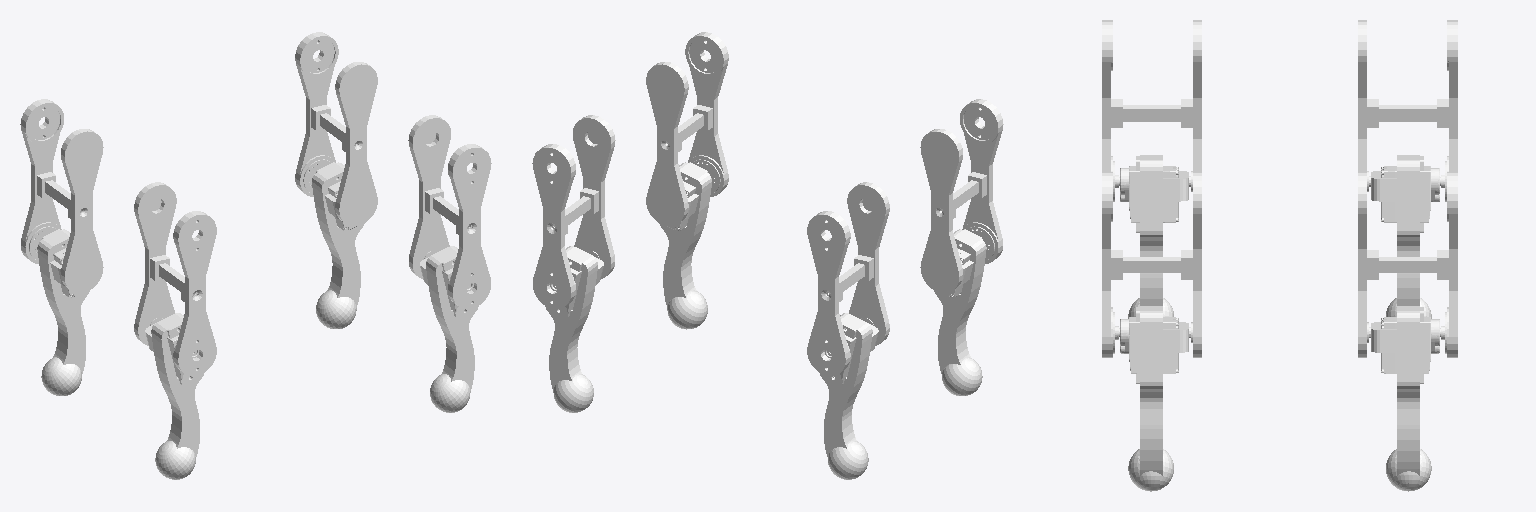
The robot description file, URDF, robot "xdog":
<?xml version="1.0"?>
<robot name="xdog" >



  <link
    name="body_Link">
    <inertial>
      <origin
        xyz="0.0100797468384241 -6.6942978937945E-15 0.014671259999792"
        rpy="0 0 0" />
      <mass
        value="0.144204255125477" />
      <inertia
        ixx="1.68530851280875E-06"
        ixy="6.4893603395572E-18"
        ixz="-3.26289108002854E-06"
        iyy="0.000221482596538362"
        iyz="1.94206212542256E-18"
        izz="0.000219797288025553" />
    </inertial>
    <visual>
      <origin
        xyz="0 0 0"
        rpy="0 0 0" />
      <geometry>
        <mesh
          filename="package://xdog_description/meshes/body_Link.STL" />
      </geometry>
      <material
        name="">
        <color
          rgba="1 1 1 0.32" />
      </material>
    </visual>
    <collision>
      <origin
        xyz="0 0 0"
        rpy="0 0 0" />
      <geometry>
        <mesh
          filename="package://xdog_description/meshes/body_Link.STL" />
      </geometry>
    </collision>
  </link>
  <link
    name="Link_13">
    <inertial>
      <origin
        xyz="0.00589211277664776 -0.00486711947882862 -0.00589211281764702"
        rpy="0 0 0" />
      <mass
        value="0.0222474344540392" />
      <inertia
        ixx="1.05777822701644E-06"
        ixy="1.75424012982471E-07"
        ixz="-9.25745238901287E-08"
        iyy="8.38710703025696E-07"
        iyz="1.01496626639833E-07"
        izz="1.05777822724891E-06" />
    </inertial>
    <visual>
      <origin
        xyz="0 0 0"
        rpy="0 0 0" />
      <geometry>
        <mesh
          filename="package://xdog_description/meshes/Link_13.STL" />
      </geometry>
      <material
        name="">
        <color
          rgba="1 1 1 0.32" />
      </material>
    </visual>
    <collision>
      <origin
        xyz="0 0 0"
        rpy="0 0 0" />
      <geometry>
        <mesh
          filename="package://xdog_description/meshes/Link_13.STL" />
      </geometry>
    </collision>
  </link>
  <joint
    name="Joint_13"
    type="revolute">
    <origin
      xyz="0.083446 0.05 0"
      rpy="1.5708 -8.6736E-18 1.5708" />
    <parent
      link="body_Link" />
    <child
      link="Link_13" />
    <axis
      xyz="0 0 -1" />
    <limit
      lower="-6.28"
      upper="6.28"
      effort="1"
      velocity="3.14" />
    <safety_controller
      soft_upper="1.57"
      soft_lower="-1.57"
      k_velocity="0" />
  </joint>
  <link
    name="Link_12">
    <inertial>
      <origin
        xyz="0.032500000000006 -3.69149155687865E-15 0.00597908298070466"
        rpy="0 0 0" />
      <mass
        value="0.0122823538406087" />
      <inertia
        ixx="4.27588858132138E-06"
        ixy="2.91991621249905E-32"
        ixz="-3.31929666068204E-19"
        iyy="4.27588858132138E-06"
        iyz="3.49721018702583E-19"
        izz="5.84880205093844E-32" />
    </inertial>
    <visual>
      <origin
        xyz="0 0 0"
        rpy="0 0 0" />
      <geometry>
        <mesh
          filename="package://xdog_description/meshes/Link_12.STL" />
      </geometry>
      <material
        name="">
        <color
          rgba="1 1 1 0.32" />
      </material>
    </visual>
    <collision>
      <origin
        xyz="0 0 0"
        rpy="0 0 0" />
      <geometry>
        <mesh
          filename="package://xdog_description/meshes/Link_12.STL" />
      </geometry>
    </collision>
  </link>
  <joint
    name="Joint_12"
    type="revolute">
    <origin
      xyz="0 -0.012087 0"
      rpy="-1.5708 -5.5511E-17 -1.5708" />
    <parent
      link="Link_13" />
    <child
      link="Link_12" />
    <axis
      xyz="0 0 -1" />
    <limit
      lower="-6.28"
      upper="6.28"
      effort="1"
      velocity="3.14" />
    <safety_controller
      soft_upper="1.57"
      soft_lower="-1.57"
      k_velocity="0" />
  </joint>
  <link
    name="Link_11">
    <inertial>
      <origin
        xyz="0.0245886888409639 -0.00138827725185645 0.00591127232774293"
        rpy="0 0 0" />
      <mass
        value="0.0211642503887348" />
      <inertia
        ixx="3.69491793613372E-07"
        ixy="6.22688045554913E-08"
        ixz="5.3833881000221E-07"
        iyy="5.17389351902357E-06"
        iyz="-1.43507075395679E-08"
        izz="4.8135454149822E-06" />
    </inertial>
    <visual>
      <origin
        xyz="0 0 0"
        rpy="0 0 0" />
      <geometry>
        <mesh
          filename="package://xdog_description/meshes/Link_11.STL" />
      </geometry>
      <material
        name="">
        <color
          rgba="1 1 1 0.32" />
      </material>
    </visual>
    <collision>
      <origin
        xyz="0 0 0"
        rpy="0 0 0" />
      <geometry>
        <mesh
          filename="package://xdog_description/meshes/Link_11.STL" />
      </geometry>
    </collision>
  </link>
  <joint
    name="Joint_11"
    type="revolute">
    <origin
      xyz="0.065 0 0"
      rpy="-2.9633E-16 1.9559E-16 1.2326E-32" />
    <parent
      link="Link_12" />
    <child
      link="Link_11" />
    <axis
      xyz="0 0 -1" />
    <limit
      lower="-6.28"
      upper="6.28"
      effort="1"
      velocity="3.14" />
    <safety_controller
      soft_upper="1.57"
      soft_lower="-1.57"
      k_velocity="0" />
  </joint>
  <link
    name="Link_23">
    <inertial>
      <origin
        xyz="-0.00589211278446113 -0.00486712588930755 -0.00589211278452147"
        rpy="0 0 0" />
      <mass
        value="0.0222474343441444" />
      <inertia
        ixx="1.06158508682657E-06"
        ixy="-1.75490176065327E-07"
        ixz="9.25745239302252E-08"
        iyy="8.38710703268066E-07"
        iyz="1.01562555057677E-07"
        izz="1.06158508682599E-06" />
    </inertial>
    <visual>
      <origin
        xyz="0 0 0"
        rpy="0 0 0" />
      <geometry>
        <mesh
          filename="package://xdog_description/meshes/Link_23.STL" />
      </geometry>
      <material
        name="">
        <color
          rgba="1 1 1 0.32" />
      </material>
    </visual>
    <collision>
      <origin
        xyz="0 0 0"
        rpy="0 0 0" />
      <geometry>
        <mesh
          filename="package://xdog_description/meshes/Link_23.STL" />
      </geometry>
    </collision>
  </link>
  <joint
    name="Joint_23"
    type="revolute">
    <origin
      xyz="0.083446 -0.05 0"
      rpy="1.5708 5.9864E-13 1.5708" />
    <parent
      link="body_Link" />
    <child
      link="Link_23" />
    <axis
      xyz="0 0 -1" />
    <limit
      lower="-6.28"
      upper="6.28"
      effort="1"
      velocity="3.14" />
    <safety_controller
      soft_upper="1.57"
      soft_lower="-1.57"
      k_velocity="0" />
  </joint>
  <link
    name="Link_22">
    <inertial>
      <origin
        xyz="0.0325000000000334 -7.03603841856193E-15 -0.00597908298070209"
        rpy="0 0 0" />
      <mass
        value="0.0122823538406087" />
      <inertia
        ixx="4.27588858132137E-06"
        ixy="-2.97559937989751E-32"
        ixz="3.36258783018814E-19"
        iyy="4.27588858132137E-06"
        iyz="3.53149509808777E-19"
        izz="5.95900842341938E-32" />
    </inertial>
    <visual>
      <origin
        xyz="0 0 0"
        rpy="0 0 0" />
      <geometry>
        <mesh
          filename="package://xdog_description/meshes/Link_22.STL" />
      </geometry>
      <material
        name="">
        <color
          rgba="1 1 1 0.32" />
      </material>
    </visual>
    <collision>
      <origin
        xyz="0 0 0"
        rpy="0 0 0" />
      <geometry>
        <mesh
          filename="package://xdog_description/meshes/Link_22.STL" />
      </geometry>
    </collision>
  </link>
  <joint
    name="Joint_22"
    type="revolute">
    <origin
      xyz="0 -0.012087 0"
      rpy="-1.5708 -2.2205E-16 -1.5708" />
    <parent
      link="Link_23" />
    <child
      link="Link_22" />
    <axis
      xyz="0 0 -1" />
    <limit
      lower="-6.28"
      upper="6.28"
      effort="1"
      velocity="3.14" />
    <safety_controller
      soft_upper="1.57"
      soft_lower="-1.57"
      k_velocity="0" />
  </joint>
  <link
    name="Link_21">
    <inertial>
      <origin
        xyz="0.024583786441454 -0.00139405658271936 -0.00591062094058505"
        rpy="0 0 0" />
      <mass
        value="0.0211575776279215" />
      <inertia
        ixx="3.695056504152E-07"
        ixy="5.89881536992194E-08"
        ixz="-5.38512272494569E-07"
        iyy="5.17472254572912E-06"
        iyz="1.43045490492441E-08"
        izz="4.81430144751335E-06" />
    </inertial>
    <visual>
      <origin
        xyz="0 0 0"
        rpy="0 0 0" />
      <geometry>
        <mesh
          filename="package://xdog_description/meshes/Link_21.STL" />
      </geometry>
      <material
        name="">
        <color
          rgba="1 1 1 0.32" />
      </material>
    </visual>
    <collision>
      <origin
        xyz="0 0 0"
        rpy="0 0 0" />
      <geometry>
        <mesh
          filename="package://xdog_description/meshes/Link_21.STL" />
      </geometry>
    </collision>
  </link>
  <joint
    name="Joint_21"
    type="revolute">
    <origin
      xyz="0.065 0 0"
      rpy="-5.2549E-13 2.5997E-13 1.1102E-16" />
    <parent
      link="Link_22" />
    <child
      link="Link_21" />
    <axis
      xyz="0 0 -1" />
    <limit
      lower="-6.28"
      upper="6.28"
      effort="1"
      velocity="3.14" />
    <safety_controller
      soft_upper="1.57"
      soft_lower="-1.57"
      k_velocity="0" />
  </joint>
  <link
    name="Link_33">
    <inertial>
      <origin
        xyz="-0.00589210844151633 -0.00486712091968915 -0.00589211564371661"
        rpy="0 0 0" />
      <mass
        value="0.0222474249737408" />
      <inertia
        ixx="1.06158381911317E-06"
        ixy="-1.75489104820104E-07"
        ixz="9.25739533220327E-08"
        iyy="8.38709582675458E-07"
        iyz="1.01562035051974E-07"
        izz="1.0615830141383E-06" />
    </inertial>
    <visual>
      <origin
        xyz="0 0 0"
        rpy="0 0 0" />
      <geometry>
        <mesh
          filename="package://xdog_description/meshes/Link_33.STL" />
      </geometry>
      <material
        name="">
        <color
          rgba="1 1 1 0.32" />
      </material>
    </visual>
    <collision>
      <origin
        xyz="0 0 0"
        rpy="0 0 0" />
      <geometry>
        <mesh
          filename="package://xdog_description/meshes/Link_33.STL" />
      </geometry>
    </collision>
  </link>
  <joint
    name="Joint_33"
    type="revolute">
    <origin
      xyz="-0.071954 -0.05 0"
      rpy="1.5708 5.9865E-13 1.5708" />
    <parent
      link="body_Link" />
    <child
      link="Link_33" />
    <axis
      xyz="0 0 -1" />
    <limit
      lower="-6.28"
      upper="6.28"
      effort="1"
      velocity="3.14" />
    <safety_controller
      soft_upper="1.57"
      soft_lower="-1.57"
      k_velocity="0" />
  </joint>
  <link
    name="Link_32">
    <inertial>
      <origin
        xyz="0.032500000000006 -7.16093850883226E-15 -0.00597908298070464"
        rpy="0 0 0" />
      <mass
        value="0.0122823538406087" />
      <inertia
        ixx="4.27588858132138E-06"
        ixy="-3.00911507482815E-32"
        ixz="3.37411326343608E-19"
        iyy="4.27588858132138E-06"
        iyz="3.55281448875514E-19"
        izz="6.02693112478128E-32" />
    </inertial>
    <visual>
      <origin
        xyz="0 0 0"
        rpy="0 0 0" />
      <geometry>
        <mesh
          filename="package://xdog_description/meshes/Link_32.STL" />
      </geometry>
      <material
        name="">
        <color
          rgba="1 1 1 0.32" />
      </material>
    </visual>
    <collision>
      <origin
        xyz="0 0 0"
        rpy="0 0 0" />
      <geometry>
        <mesh
          filename="package://xdog_description/meshes/Link_32.STL" />
      </geometry>
    </collision>
  </link>
  <joint
    name="Joint_32"
    type="revolute">
    <origin
      xyz="0 -0.012087 0"
      rpy="-1.5708 -4.6384E-17 -1.5708" />
    <parent
      link="Link_33" />
    <child
      link="Link_32" />
    <axis
      xyz="0 0 -1" />
    <limit
      lower="-6.28"
      upper="6.28"
      effort="1"
      velocity="3.14" />
    <safety_controller
      soft_upper="1.57"
      soft_lower="-1.57"
      k_velocity="0" />
  </joint>
  <link
    name="Link_31">
    <inertial>
      <origin
        xyz="0.024583798575402 -0.00139405515632768 -0.0059106159242525"
        rpy="0 0 0" />
      <mass
        value="0.0211575679729923" />
      <inertia
        ixx="3.69504604037117E-07"
        ixy="5.89887459631567E-08"
        ixz="-5.38509568976572E-07"
        iyy="5.17471503754707E-06"
        iyz="1.43048206907229E-08"
        izz="4.81429502690449E-06" />
    </inertial>
    <visual>
      <origin
        xyz="0 0 0"
        rpy="0 0 0" />
      <geometry>
        <mesh
          filename="package://xdog_description/meshes/Link_31.STL" />
      </geometry>
      <material
        name="">
        <color
          rgba="1 1 1 0.32" />
      </material>
    </visual>
    <collision>
      <origin
        xyz="0 0 0"
        rpy="0 0 0" />
      <geometry>
        <mesh
          filename="package://xdog_description/meshes/Link_31.STL" />
      </geometry>
    </collision>
  </link>
  <joint
    name="Joint_31"
    type="revolute">
    <origin
      xyz="0.065 0 0"
      rpy="-5.2564E-13 2.6012E-13 5.5511E-17" />
    <parent
      link="Link_32" />
    <child
      link="Link_31" />
    <axis
      xyz="0 0 -1" />
    <limit
      lower="-6.28"
      upper="6.28"
      effort="1"
      velocity="3.14" />
    <safety_controller
      soft_upper="1.57"
      soft_lower="-1.57"
      k_velocity="0" />
  </joint>
  <link
    name="Link_43">
    <inertial>
      <origin
        xyz="0.00589211278448006 -0.00486711942572839 -0.00589211278450374"
        rpy="0 0 0" />
      <mass
        value="0.0222474343441445" />
      <inertia
        ixx="1.05777821597204E-06"
        ixy="1.75424014223649E-07"
        ixz="-9.25745239301217E-08"
        iyy="8.38710703269563E-07"
        iyz="1.01496631855918E-07"
        izz="1.05777821597196E-06" />
    </inertial>
    <visual>
      <origin
        xyz="0 0 0"
        rpy="0 0 0" />
      <geometry>
        <mesh
          filename="package://xdog_description/meshes/Link_43.STL" />
      </geometry>
      <material
        name="">
        <color
          rgba="1 1 1 0.32" />
      </material>
    </visual>
    <collision>
      <origin
        xyz="0 0 0"
        rpy="0 0 0" />
      <geometry>
        <mesh
          filename="package://xdog_description/meshes/Link_43.STL" />
      </geometry>
    </collision>
  </link>
  <joint
    name="Joint_43"
    type="revolute">
    <origin
      xyz="-0.071954 0.05 0"
      rpy="1.5708 2.4568E-31 1.5708" />
    <parent
      link="body_Link" />
    <child
      link="Link_43" />
    <axis
      xyz="0 0 -1" />
    <limit
      lower="-6.28"
      upper="6.28"
      effort="1"
      velocity="3.14" />
    <safety_controller
      soft_upper="1.57"
      soft_lower="-1.57"
      k_velocity="0" />
  </joint>
  <link
    name="Link_42">
    <inertial>
      <origin
        xyz="0.032500000000006 -3.77475828372553E-15 0.00597908298070462"
        rpy="0 0 0" />
      <mass
        value="0.0122823538406087" />
      <inertia
        ixx="4.27588858132138E-06"
        ixy="2.94103044202852E-32"
        ixz="-3.38728650262078E-19"
        iyy="4.27588858132138E-06"
        iyz="3.46071898281109E-19"
        izz="5.88478166292039E-32" />
    </inertial>
    <visual>
      <origin
        xyz="0 0 0"
        rpy="0 0 0" />
      <geometry>
        <mesh
          filename="package://xdog_description/meshes/Link_42.STL" />
      </geometry>
      <material
        name="">
        <color
          rgba="1 1 1 0.32" />
      </material>
    </visual>
    <collision>
      <origin
        xyz="0 0 0"
        rpy="0 0 0" />
      <geometry>
        <mesh
          filename="package://xdog_description/meshes/Link_42.STL" />
      </geometry>
    </collision>
  </link>
  <joint
    name="Joint_42"
    type="revolute">
    <origin
      xyz="0 -0.012087 0"
      rpy="-1.5708 -1.6654E-16 -1.5708" />
    <parent
      link="Link_43" />
    <child
      link="Link_42" />
    <axis
      xyz="0 0 -1" />
    <limit
      lower="-6.28"
      upper="6.28"
      effort="1"
      velocity="3.14" />
    <safety_controller
      soft_upper="1.57"
      soft_lower="-1.57"
      k_velocity="0" />
  </joint>
  <link
    name="Link_41">
    <inertial>
      <origin
        xyz="0.0245886903668074 -0.00138827750846166 0.00591127172128423"
        rpy="0 0 0" />
      <mass
        value="0.0211642494468741" />
      <inertia
        ixx="3.69491649086748E-07"
        ixy="6.22686910424057E-08"
        ixz="5.38338441295407E-07"
        iyy="5.1738924586767E-06"
        iyz="-1.43506635566747E-08"
        izz="4.81354449246951E-06" />
    </inertial>
    <visual>
      <origin
        xyz="0 0 0"
        rpy="0 0 0" />
      <geometry>
        <mesh
          filename="package://xdog_description/meshes/Link_41.STL" />
      </geometry>
      <material
        name="">
        <color
          rgba="1 1 1 0.32" />
      </material>
    </visual>
    <collision>
      <origin
        xyz="0 0 0"
        rpy="0 0 0" />
      <geometry>
        <mesh
          filename="package://xdog_description/meshes/Link_41.STL" />
      </geometry>
    </collision>
  </link>
  <joint
    name="Joint_41"
    type="revolute">
    <origin
      xyz="0.065 0 0"
      rpy="-5.8578E-17 1.0149E-16 0" />
    <parent
      link="Link_42" />
    <child
      link="Link_41" />
    <axis
      xyz="0 0 -1" />
    <limit
      lower="-6.28"
      upper="6.28"
      effort="1"
      velocity="3.14" />
    <dynamics
      damping="0.1"
      friction="0.1" />
    <safety_controller
      soft_upper="1.57"
      soft_lower="-1.57"
      k_velocity="0" />
  </joint>

</robot>

--- What the picture shows (computed from the rendered views, not written in the file) ---
Views: 3 orthographic renders of the robot side by side, from view 1: azimuth 30°, elevation 25°; view 2: azimuth 150°, elevation 25°; view 3: azimuth 270°, elevation 25°.
Robot: xdog — 13 links, 12 joints (12 revolute); root link body_Link; default pose: all joints at 0.
Visible links, largest first — view 1: Link_22, Link_32, Link_42, Link_12, Link_11, Link_41, Link_21, Link_31; view 2: Link_12, Link_42, Link_32, Link_22, Link_21, Link_31, Link_11, Link_41; view 3: Link_11, Link_21, Link_31, Link_41, Link_12, Link_22, Link_32, Link_42.
Boxes of the visible links, bbox=[...] form: Link_22: bbox=[408, 115, 491, 308]; Link_32: bbox=[134, 182, 216, 375]; Link_42: bbox=[20, 99, 103, 292]; Link_12: bbox=[295, 32, 377, 225]; Link_11: bbox=[303, 159, 364, 328]; Link_41: bbox=[29, 226, 89, 395]; Link_21: bbox=[420, 246, 478, 412]; Link_31: bbox=[145, 313, 203, 479]; Link_12: bbox=[532, 115, 615, 308]; Link_42: bbox=[807, 182, 889, 375]; Link_32: bbox=[920, 99, 1003, 292]; Link_22: bbox=[646, 32, 728, 225]; Link_21: bbox=[659, 159, 720, 329]; Link_31: bbox=[934, 226, 994, 395]; Link_11: bbox=[545, 246, 603, 412]; Link_41: bbox=[820, 313, 878, 479]; Link_11: bbox=[1367, 306, 1446, 491]; Link_21: bbox=[1113, 306, 1192, 491]; Link_31: bbox=[1113, 155, 1192, 318]; Link_41: bbox=[1367, 155, 1446, 318]; Link_12: bbox=[1358, 172, 1457, 357]; Link_22: bbox=[1102, 172, 1201, 357]; Link_32: bbox=[1102, 20, 1201, 171]; Link_42: bbox=[1358, 20, 1457, 171].
Bounding box of the posed robot: 0.1799 × 0.1546 × 0.1509 m (x, y, z).
8 mesh visuals loaded from 13 distinct referenced files (8 binary STL); not drawn: 5 (reference not matched to a file when rendering).